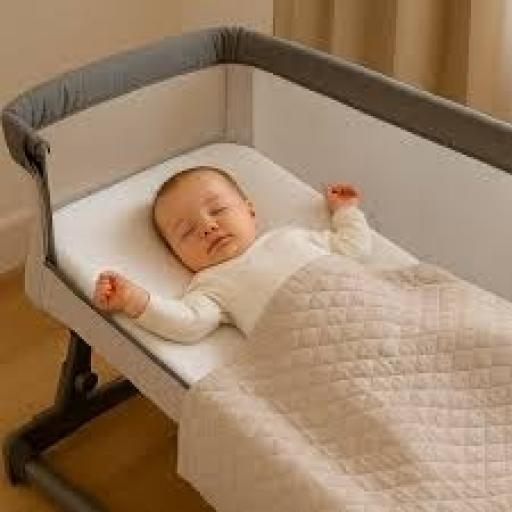baby: (94, 167, 373, 343)
crib: (3, 28, 511, 511)
